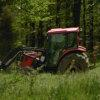Tractor: (16, 23, 88, 74)
